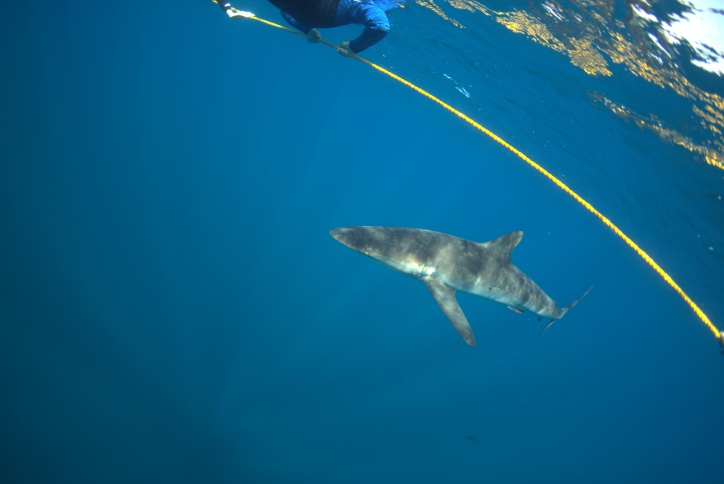Sedoso: (300, 209, 603, 354)
